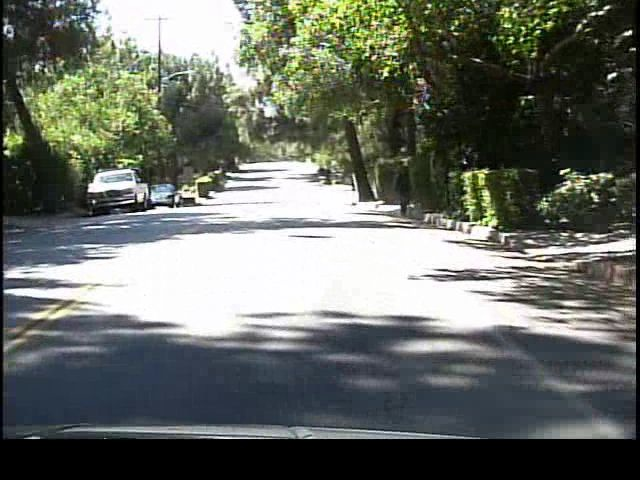person: (392, 159, 414, 218)
